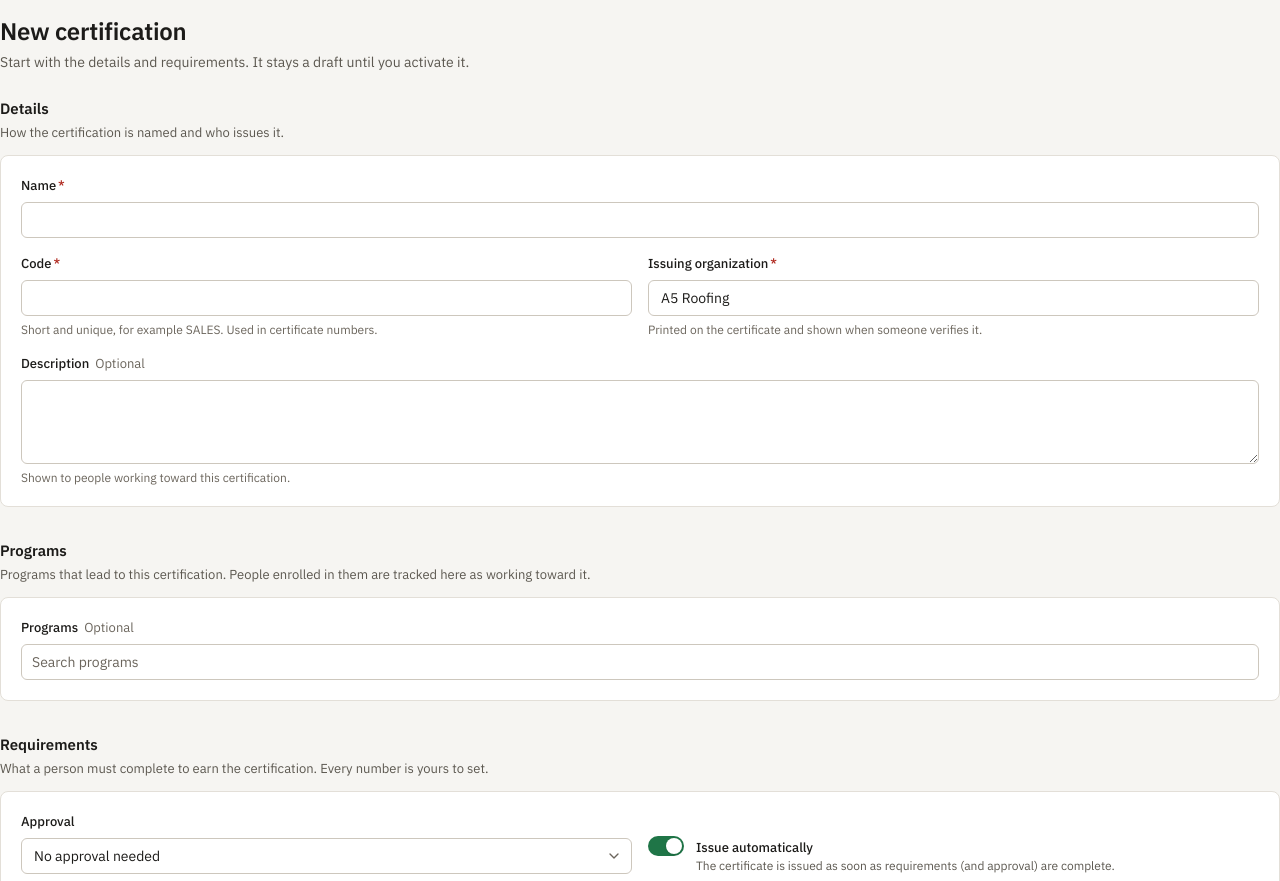
Test: CertificationEditorPage (new) › shows a taken code beside the code field
In the field labelled "Name*": (640, 220) [21,202,1259,238], type "Storm Response"
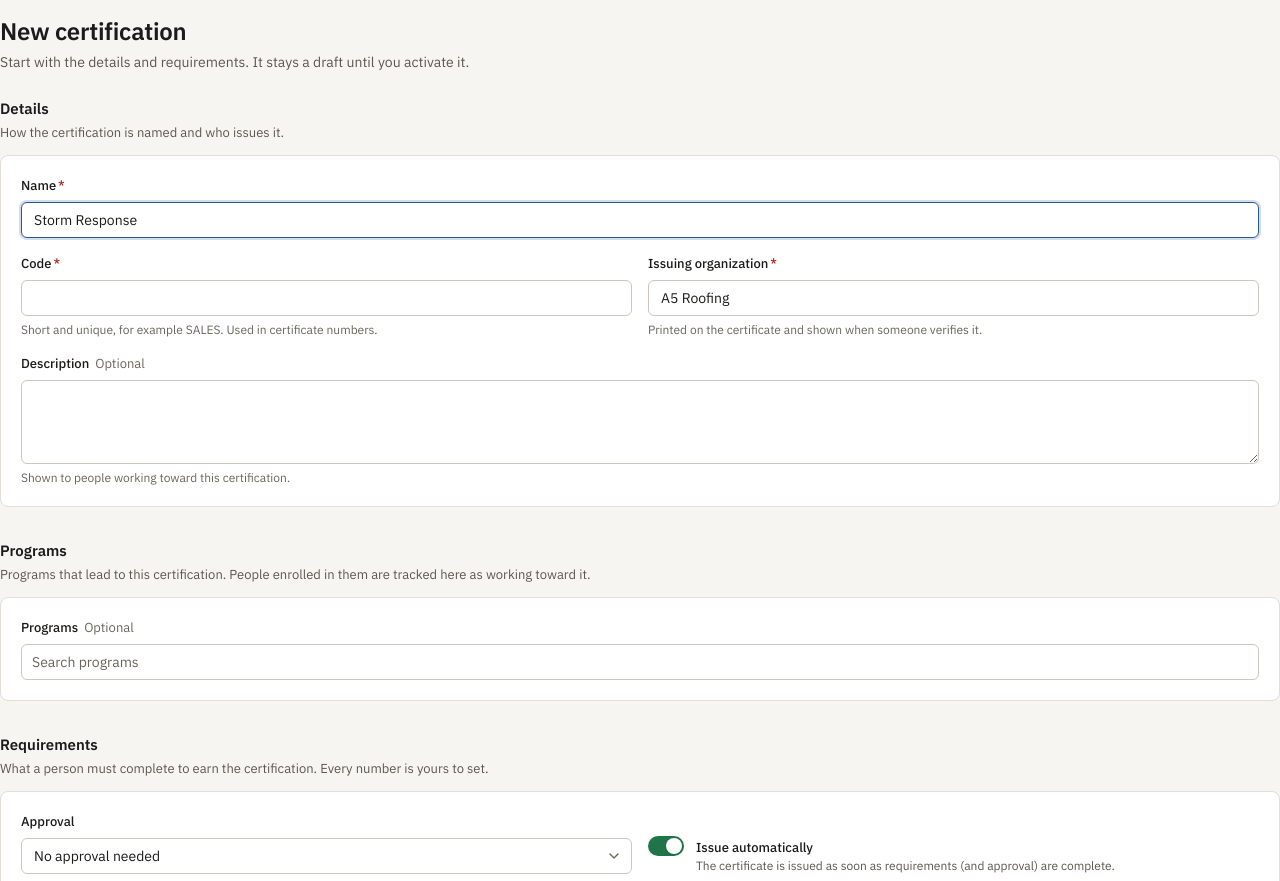
In the field labelled "Code*": (326, 298) [21,280,632,316], type "sales"
(page scrolled)
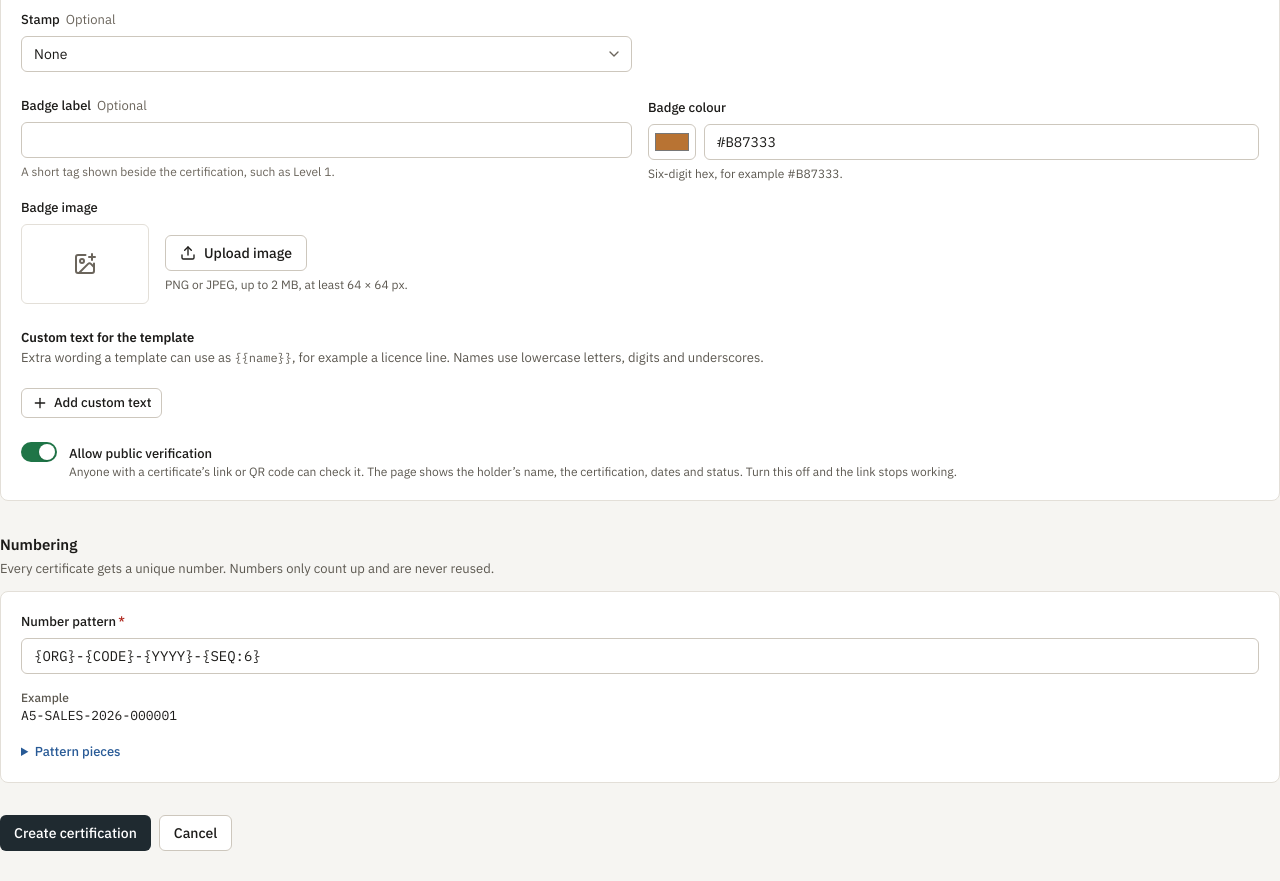
Click the button "Create certification": (75, 833) [0,815,151,851]
(page scrolled)
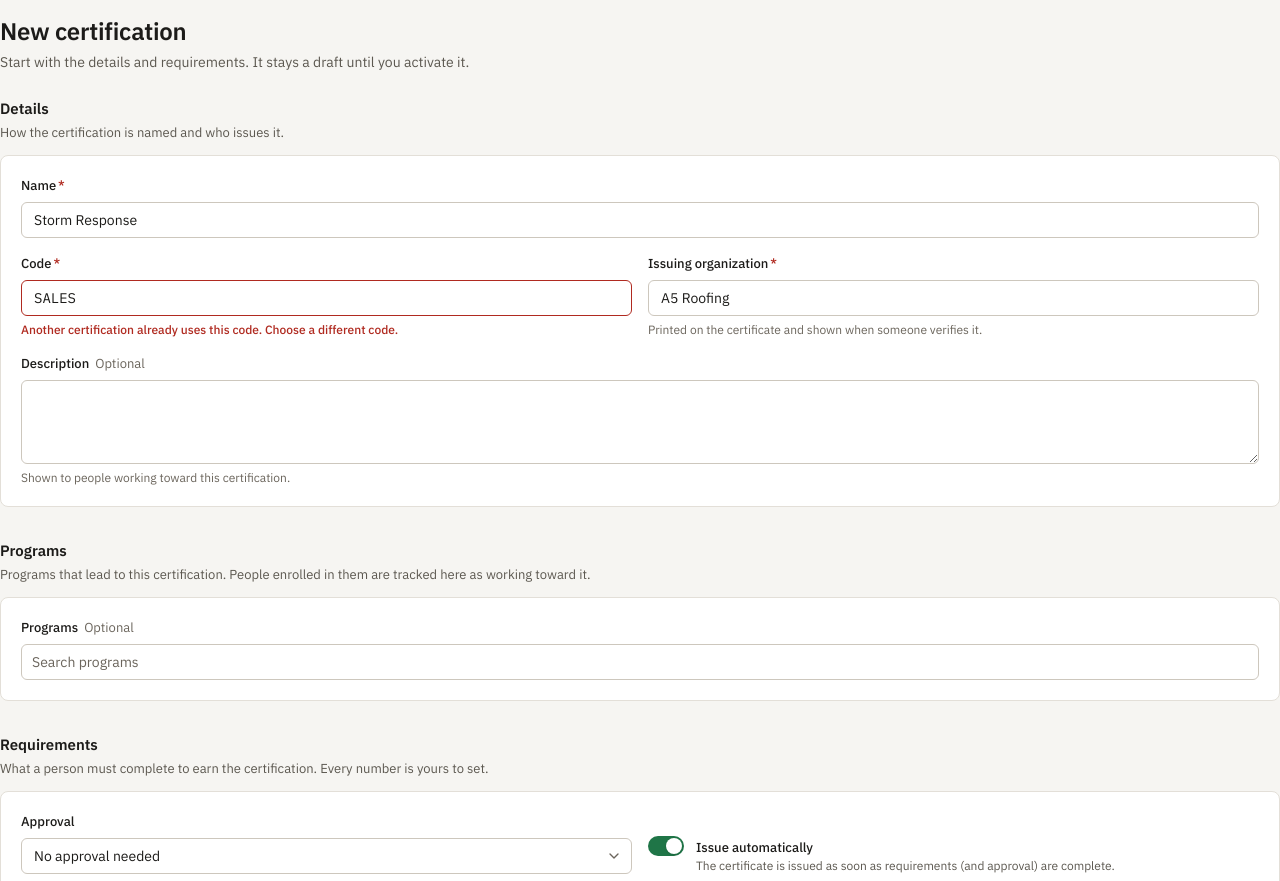
Result: the text "Another certification already uses this code. Choose a different code." is shown at [21,322,398,337]
